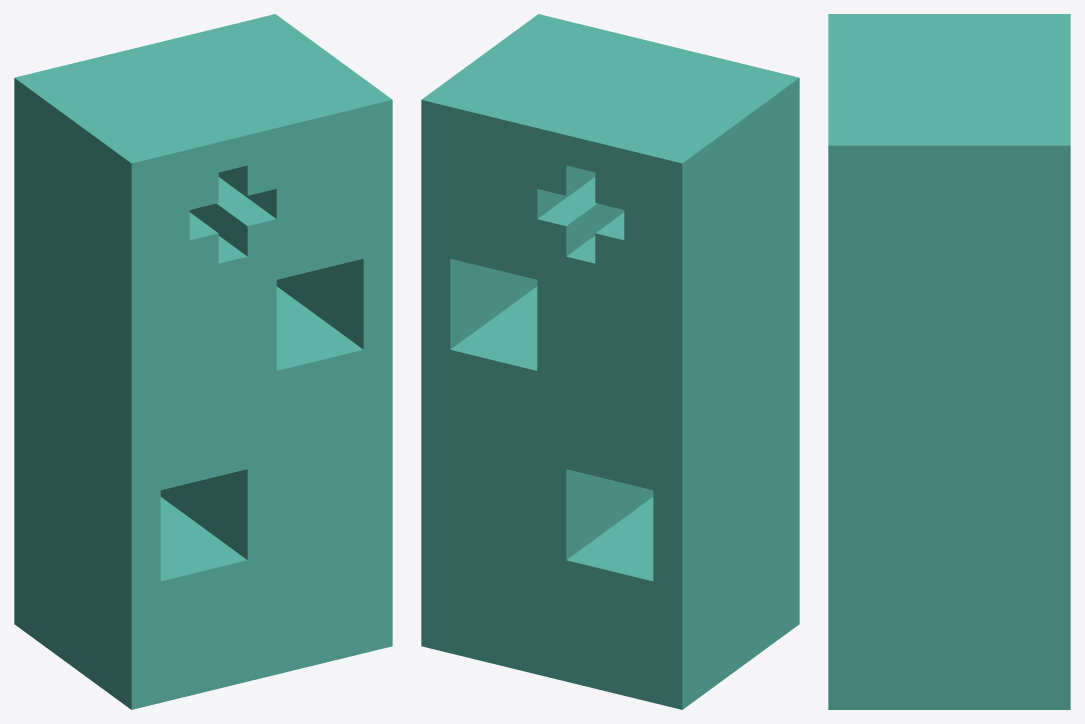
Rendered from alien-biosphere-sponge-tower-4228de17__22825.glb.
3 renders of one model, left to right at view 1: azimuth 30°, elevation 25°; view 2: azimuth 150°, elevation 25°; view 3: azimuth 270°, elevation 25°, orthographic. The views are drawn at different scales.
Visible parts, largest first — view 1: sponge-tower; view 2: sponge-tower; view 3: sponge-tower.
Boxes of the visible parts, x1=… form: sponge-tower: x1=14, y1=14, x2=392, y2=709; sponge-tower: x1=421, y1=14, x2=799, y2=709; sponge-tower: x1=828, y1=14, x2=1070, y2=709.
Size of the model in its own units: 1.8 by 3.6 by 1.4.
